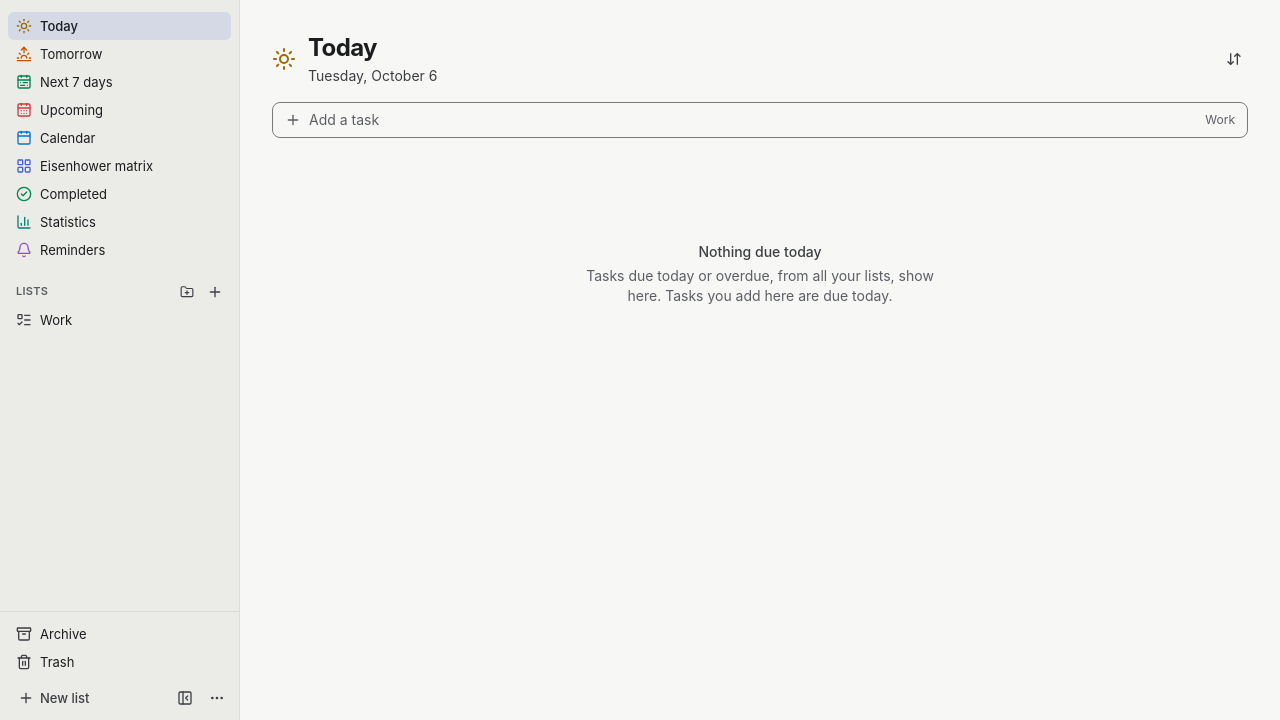
Test: Settings › changes reminder and tray settings
Click the button named "Settings": (217, 698) [203,684,231,712]
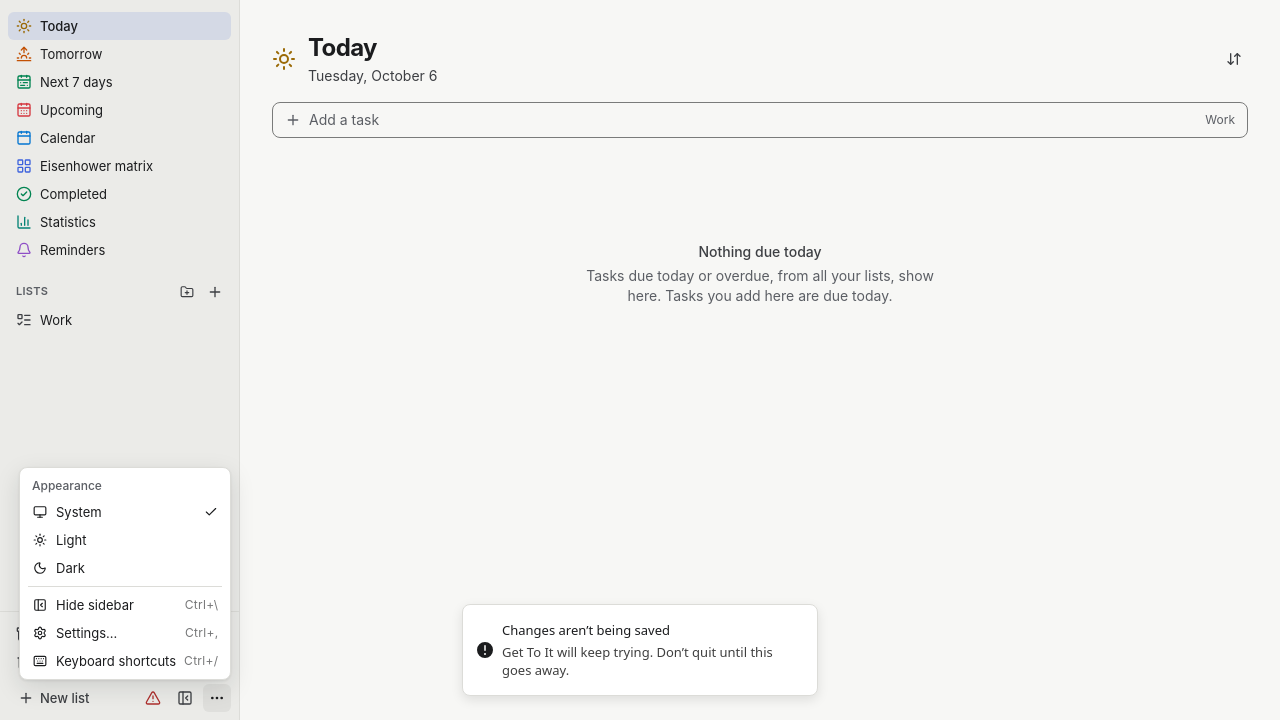
Click the menu item "Settings… Ctrl+,": (87, 633) [33,625,218,641]
(page scrolled)
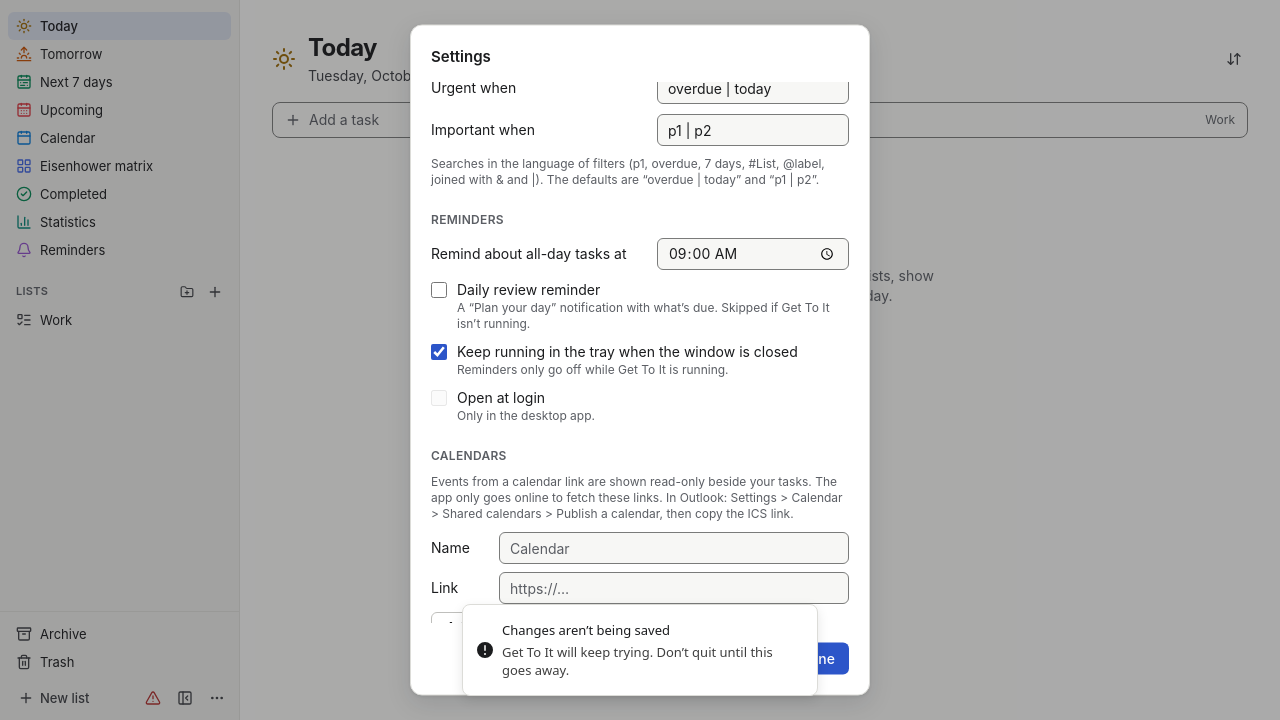
Click the checkbox labelled "Keep running in the tray when the window is closed": (439, 352) [431,344,447,360]
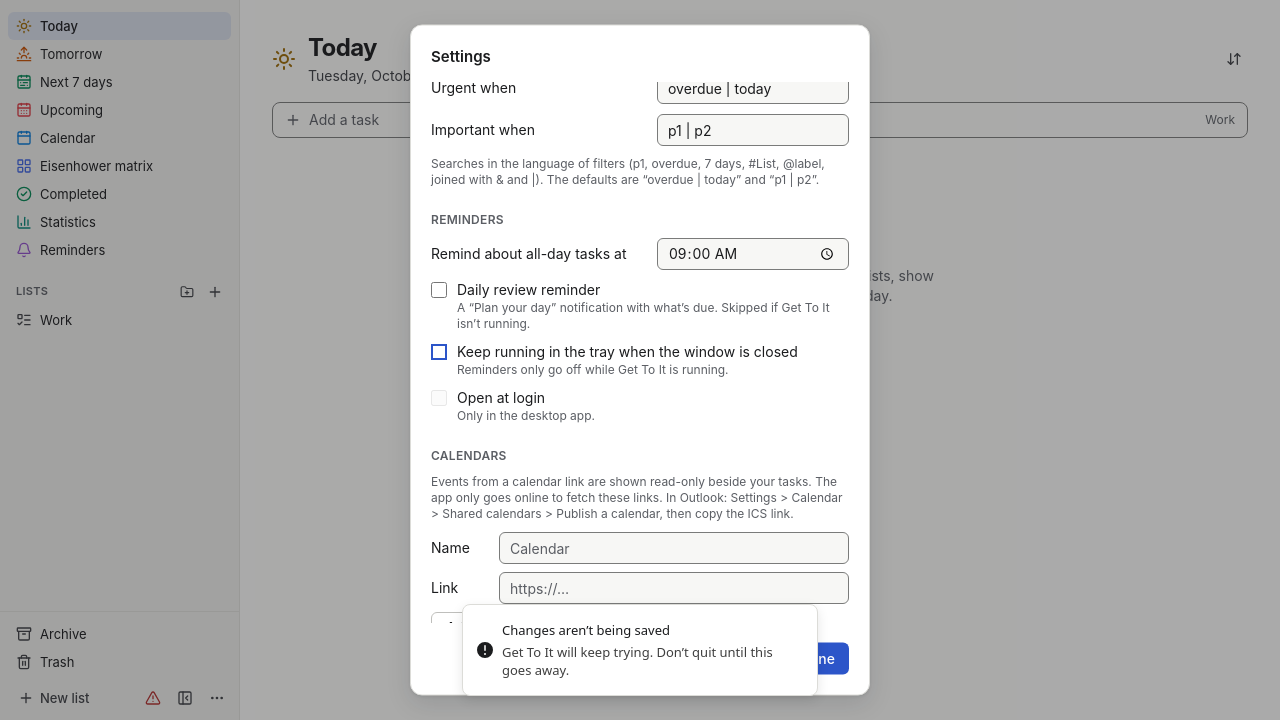
Replace the text in the time field labelled "Remind about all-day tasks at" with "07:30": (753, 254) [657,238,849,270]
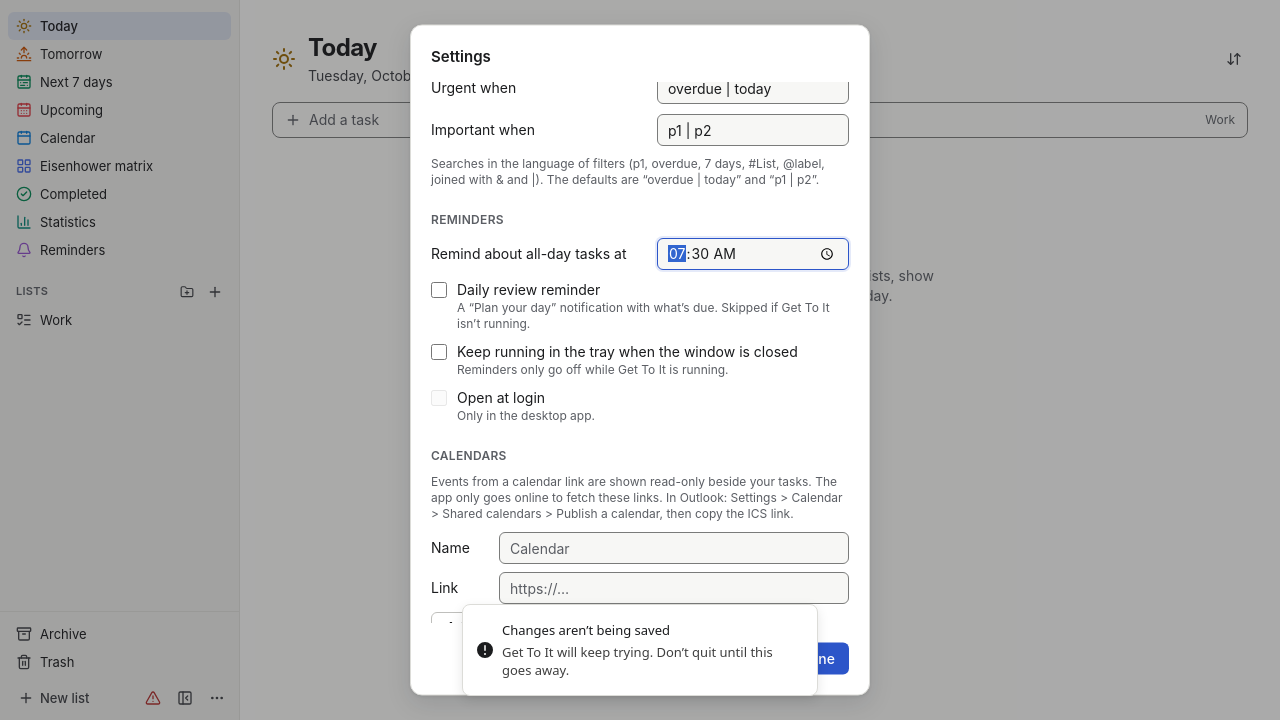
Click the button "Done": (817, 658) [786,642,849,674]
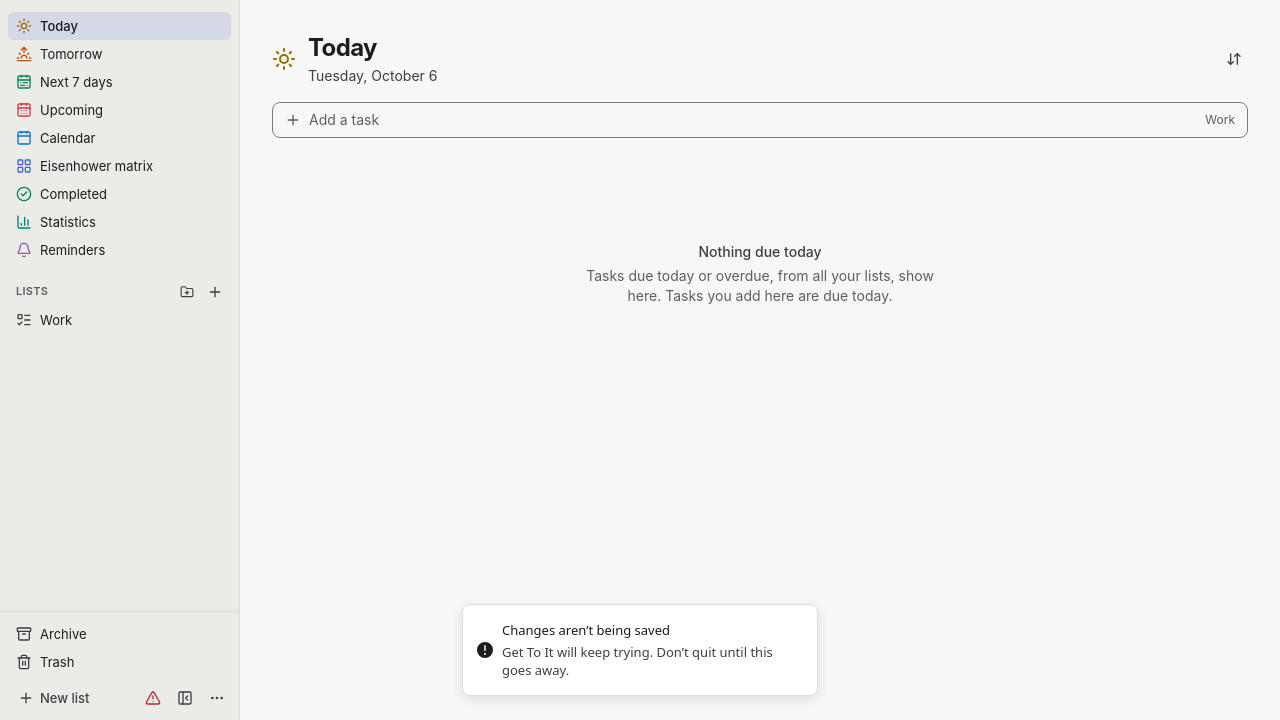
Expected: the dialog is gone
